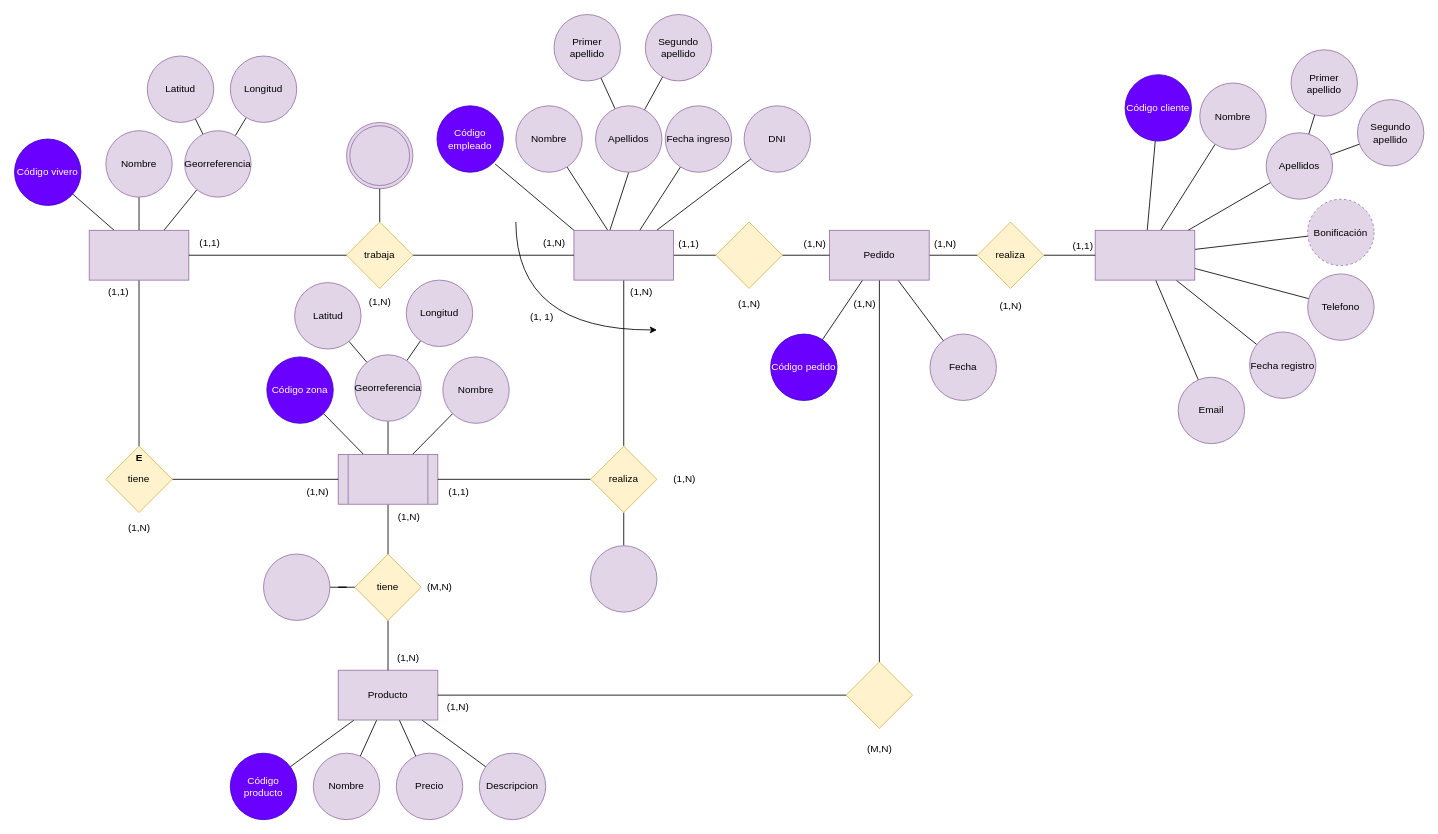
This 1438x834 diagram has some shape labels left out. Each missing label, with the centre of its shape:
Cliente fidelizado: [1144,254]
compone: [879,694]
Empleado: [623,254]
entrega: [748,254]
Histórico de puesto: [379,155]
Stock: [296,586]
Tarea: [623,578]
Vivero: [138,254]
Zona: [387,479]
